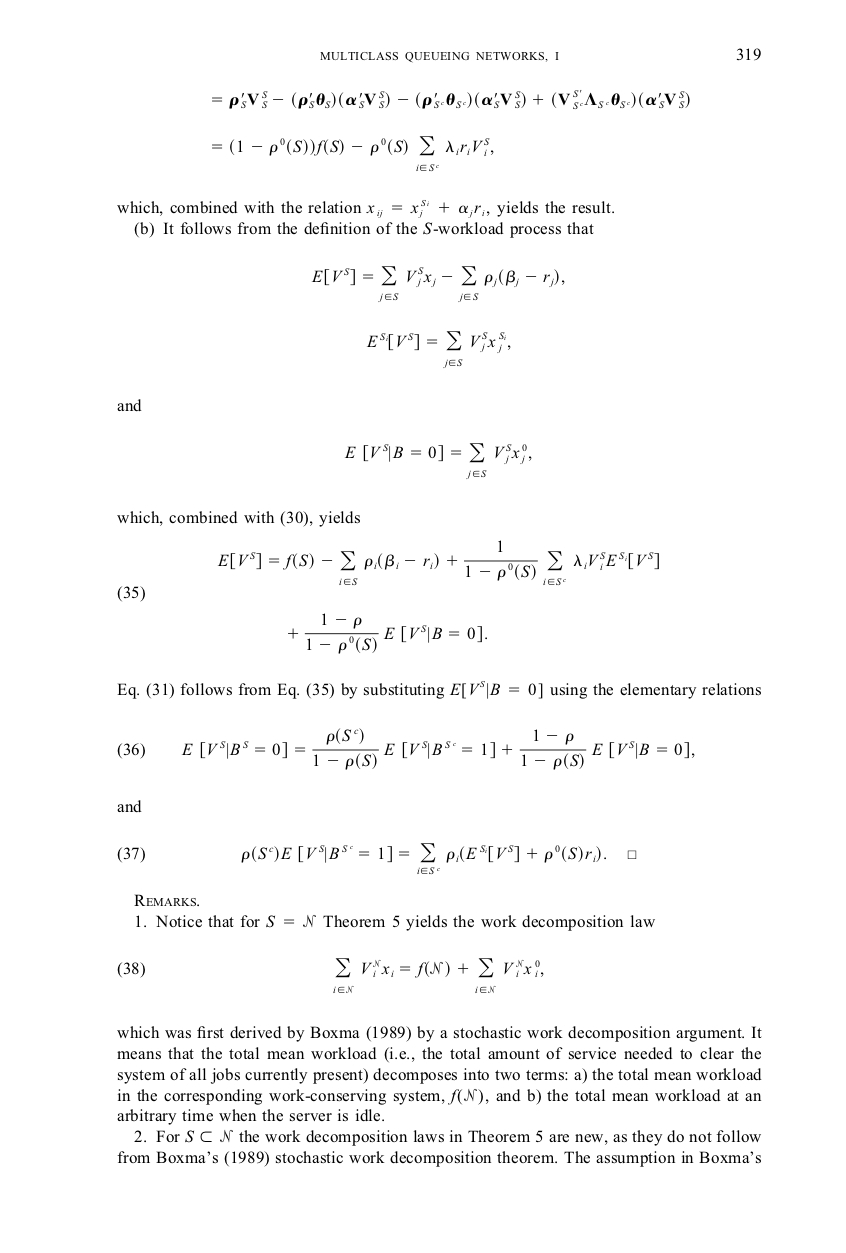formula: (117, 539, 658, 602), (117, 727, 694, 770), (117, 843, 636, 874), (117, 958, 543, 992), (212, 89, 689, 110), (212, 136, 493, 171), (311, 266, 564, 301), (288, 612, 486, 654), (344, 443, 531, 478), (366, 331, 510, 367)
